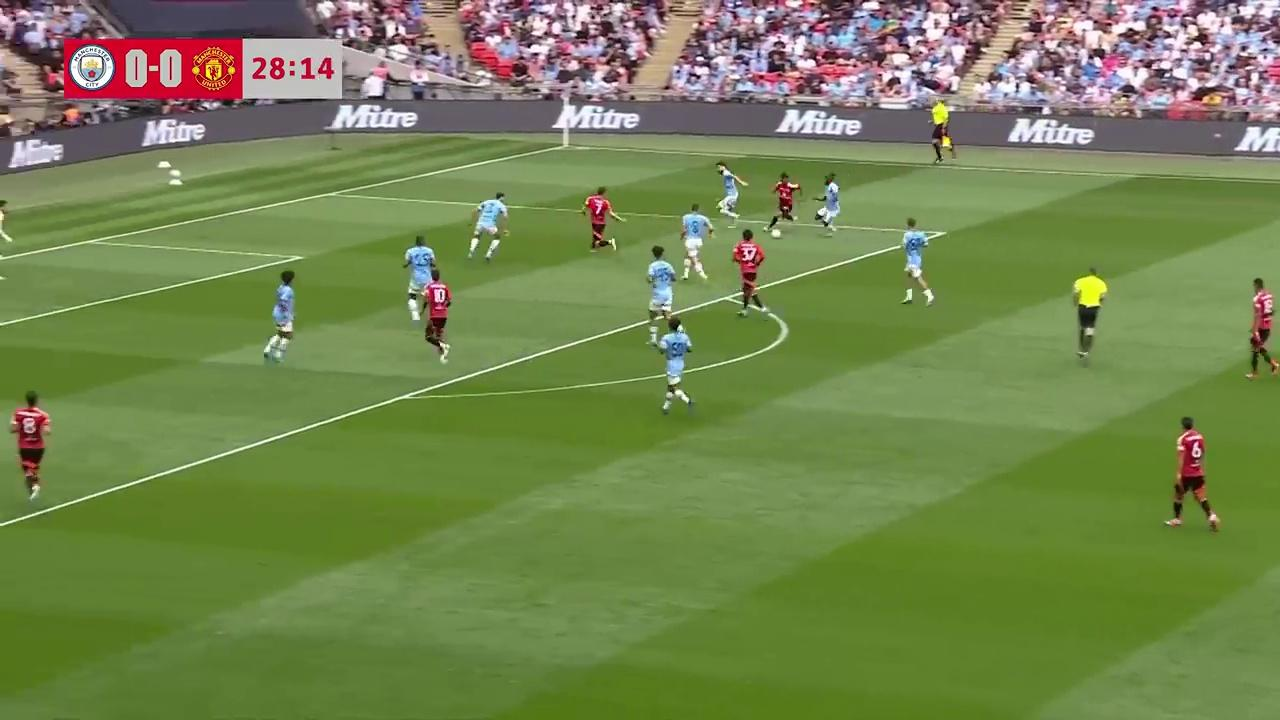ball: (772, 224, 782, 239)
player: (1164, 416, 1220, 531), (9, 391, 52, 502), (658, 317, 696, 415), (1246, 277, 1279, 379), (900, 217, 935, 306), (580, 187, 625, 253), (263, 271, 295, 363), (732, 230, 765, 316), (467, 193, 508, 262), (645, 246, 677, 334), (422, 272, 452, 364), (402, 235, 435, 316), (679, 203, 713, 281), (768, 172, 801, 237), (716, 162, 747, 225), (816, 172, 840, 235), (0, 200, 12, 283)
referee: (1071, 265, 1108, 364), (928, 100, 958, 166)
